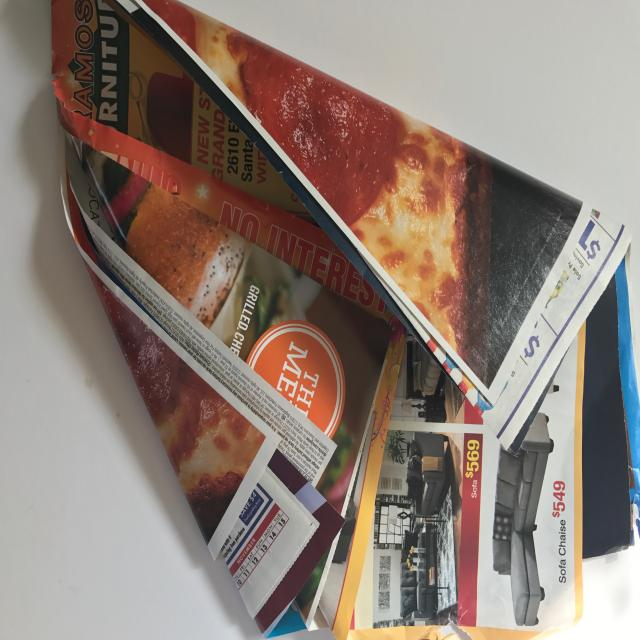paper: (52, 0, 640, 640)
